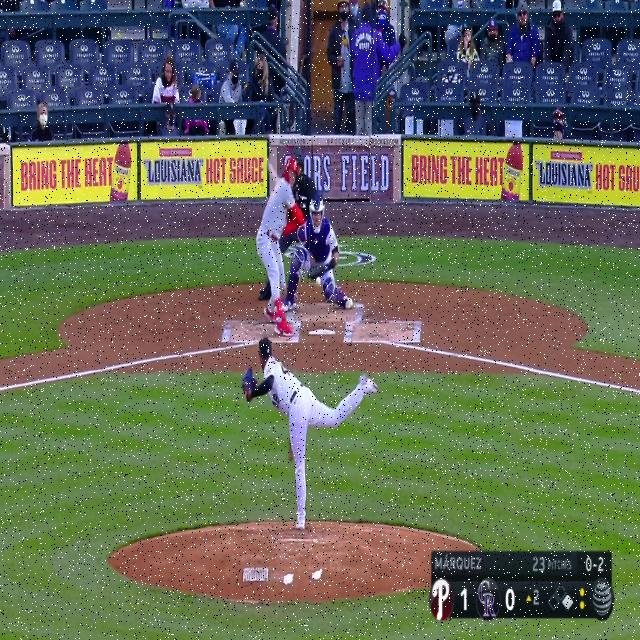baseball: (315, 275, 322, 287)
